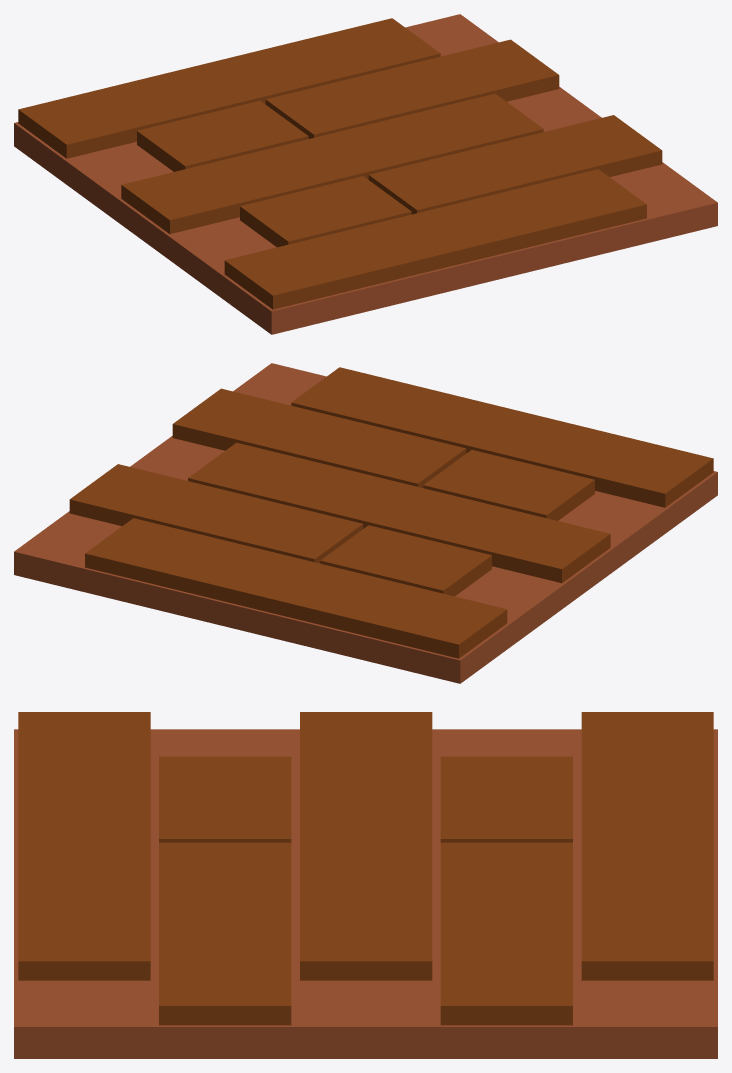
File: Prop_Tile_Terrain_Dungeon_Timber_Panel_02.FBX
3 views of the same model, one above another, from view 1: azimuth 30°, elevation 25°; view 2: azimuth 150°, elevation 25°; view 3: azimuth 270°, elevation 25° (orthographic). The views are drawn at different scales.
Visible parts, largest first — view 1: Prop_Tile_Terrain_Dungeon_Timber_Panel_02; view 2: Prop_Tile_Terrain_Dungeon_Timber_Panel_02; view 3: Prop_Tile_Terrain_Dungeon_Timber_Panel_02.
Boxes of the visible parts, x1,y1,x2,y2 form: Prop_Tile_Terrain_Dungeon_Timber_Panel_02: [14, 14, 717, 334]; Prop_Tile_Terrain_Dungeon_Timber_Panel_02: [14, 363, 717, 683]; Prop_Tile_Terrain_Dungeon_Timber_Panel_02: [14, 712, 717, 1058].
Size of the model in its own units: 3000 by 240 by 3000.
